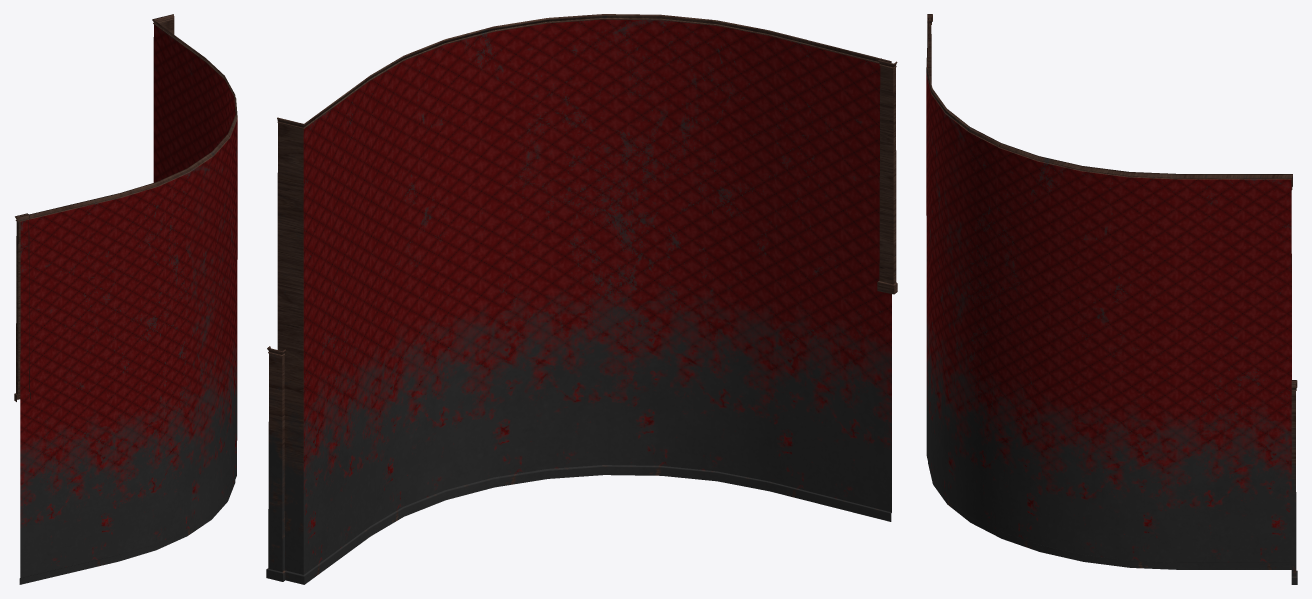
Rendered from Mod_Wall_CurvedStairs_A_low.fbx.
The picture shows the model from 3 angles, left to right: view 1: azimuth 30°, elevation 25°; view 2: azimuth 150°, elevation 25°; view 3: azimuth 270°, elevation 25°; orthographic projection. The views are drawn at different scales.
Parts seen in each view (by area): view 1: Mod_Wall_CurvedStairs_A_low; view 2: Mod_Wall_CurvedStairs_A_low; view 3: Mod_Wall_CurvedStairs_A_low.
Part boxes in pixels (box(x1,y1,x2,y2)): Mod_Wall_CurvedStairs_A_low: box(14, 14, 237, 584); Mod_Wall_CurvedStairs_A_low: box(266, 14, 897, 584); Mod_Wall_CurvedStairs_A_low: box(926, 14, 1297, 584).
Bounding box in the file's own units: 1136 × 1200 × 1019.
